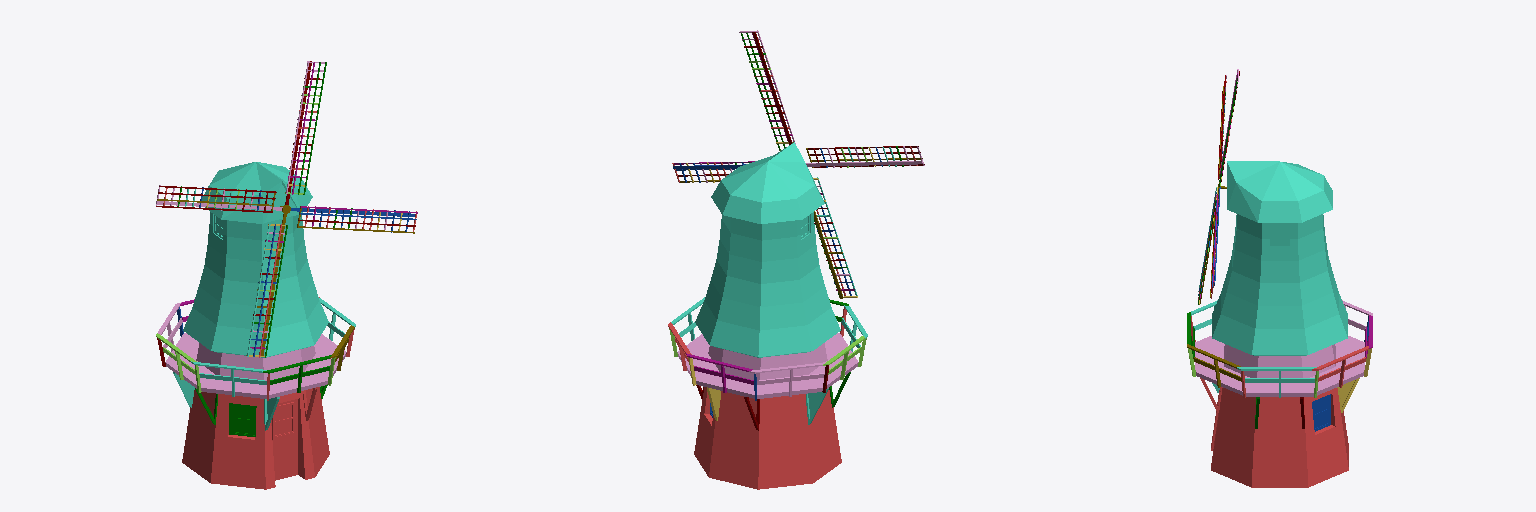
The model's file is windmill.obj.
3 renders of one model, left to right at view 1: azimuth 30°, elevation 25°; view 2: azimuth 150°, elevation 25°; view 3: azimuth 270°, elevation 25°, orthographic.
Parts seen in each view (by area): view 1: Upper_Section_001, Bottom_Section_001, Middle_Section_001, Top_Section_001, Window_001, Post_008, Post_001; view 2: Upper_Section_001, Bottom_Section_001, Top_Section_001, Middle_Section_001, Post_006, Post_005; view 3: Upper_Section_001, Bottom_Section_001, Top_Section_001, Middle_Section_001, Post_003, Window_002, Post_004, Post_002.
Boxes of the visible parts, box(x1,y1,x2,y2) form: Upper_Section_001: box(183, 212, 328, 357); Bottom_Section_001: box(182, 387, 329, 489); Middle_Section_001: box(165, 333, 346, 398); Top_Section_001: box(202, 162, 312, 223); Window_001: box(229, 403, 256, 436); Post_008: box(191, 361, 266, 396); Post_001: box(263, 355, 331, 392); Upper_Section_001: box(695, 212, 840, 357); Bottom_Section_001: box(694, 387, 841, 489); Top_Section_001: box(711, 142, 824, 223); Middle_Section_001: box(677, 333, 858, 398); Post_006: box(749, 362, 825, 396); Post_005: box(686, 353, 753, 392); Upper_Section_001: box(1212, 214, 1347, 355); Bottom_Section_001: box(1211, 387, 1348, 487); Top_Section_001: box(1227, 161, 1332, 222); Middle_Section_001: box(1195, 336, 1364, 396); Post_003: box(1237, 367, 1316, 397); Window_002: box(1312, 394, 1330, 431); Post_004: box(1312, 346, 1368, 387); Post_002: box(1187, 344, 1241, 387).
Size of the model in its own units: 312 by 469 by 196.